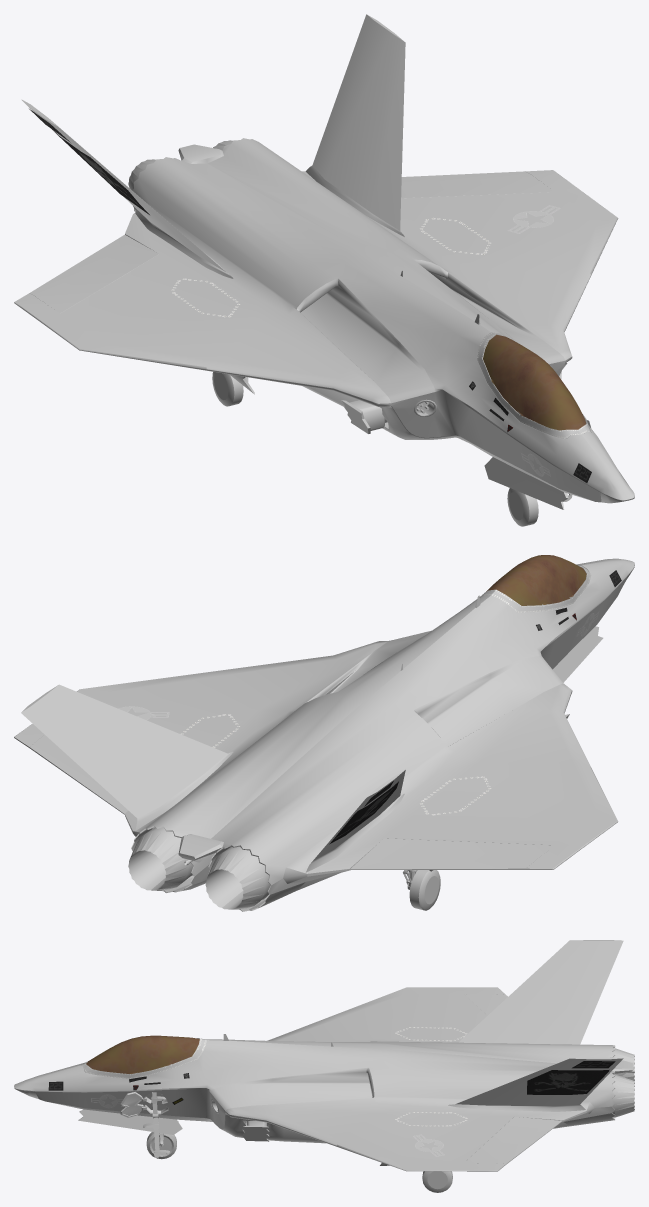
Rendered from FA38_landed.obj.
The picture shows the model from 3 angles, top to bottom: view 1: azimuth 30°, elevation 25°; view 2: azimuth 150°, elevation 25°; view 3: azimuth 270°, elevation 25°; orthographic projection. The views are drawn at different scales.
Parts seen in each view (by area): view 1: Mesh_0540, Mesh_0662, Mesh_0549, Mesh_0790, Mesh_0805, Mesh_0333, Mesh_0546, Mesh_0550, Mesh_0552; view 2: Mesh_0540, Mesh_0662, Mesh_0548, Mesh_0547, Mesh_0552, Mesh_0805, Mesh_0549, Mesh_0790, Mesh_0333; view 3: Mesh_0540, Mesh_0662, Mesh_0805, Mesh_0549, Mesh_0553, Mesh_0790, Mesh_0547, Mesh_0333, Mesh_0551, Mesh_0550, Mesh_0545.
Part boxes in pixels (x1,y1,x2,y2): Mesh_0540: [14, 14, 634, 503]; Mesh_0662: [483, 334, 585, 430]; Mesh_0549: [229, 374, 572, 509]; Mesh_0790: [171, 205, 560, 476]; Mesh_0805: [29, 109, 591, 482]; Mesh_0333: [477, 332, 590, 439]; Mesh_0546: [341, 400, 386, 433]; Mesh_0550: [507, 488, 538, 526]; Mesh_0552: [212, 372, 243, 406]; Mesh_0540: [14, 558, 634, 894]; Mesh_0662: [486, 555, 586, 605]; Mesh_0548: [205, 846, 270, 909]; Mesh_0547: [128, 827, 193, 890]; Mesh_0552: [403, 870, 440, 910]; Mesh_0805: [329, 570, 621, 844]; Mesh_0549: [429, 626, 603, 871]; Mesh_0790: [118, 611, 599, 815]; Mesh_0333: [480, 565, 591, 612]; Mesh_0540: [14, 940, 634, 1171]; Mesh_0662: [86, 1035, 199, 1073]; Mesh_0805: [48, 1061, 615, 1104]; Mesh_0549: [78, 1109, 389, 1165]; Mesh_0553: [120, 1092, 169, 1157]; Mesh_0790: [91, 1027, 467, 1156]; Mesh_0547: [612, 1074, 634, 1117]; Mesh_0333: [81, 1038, 207, 1078]; Mesh_0551: [422, 1171, 452, 1192]; Mesh_0550: [146, 1121, 178, 1159]; Mesh_0545: [242, 1121, 269, 1141].
Size of the model in its own units: 41677 by 16765 by 59387.
